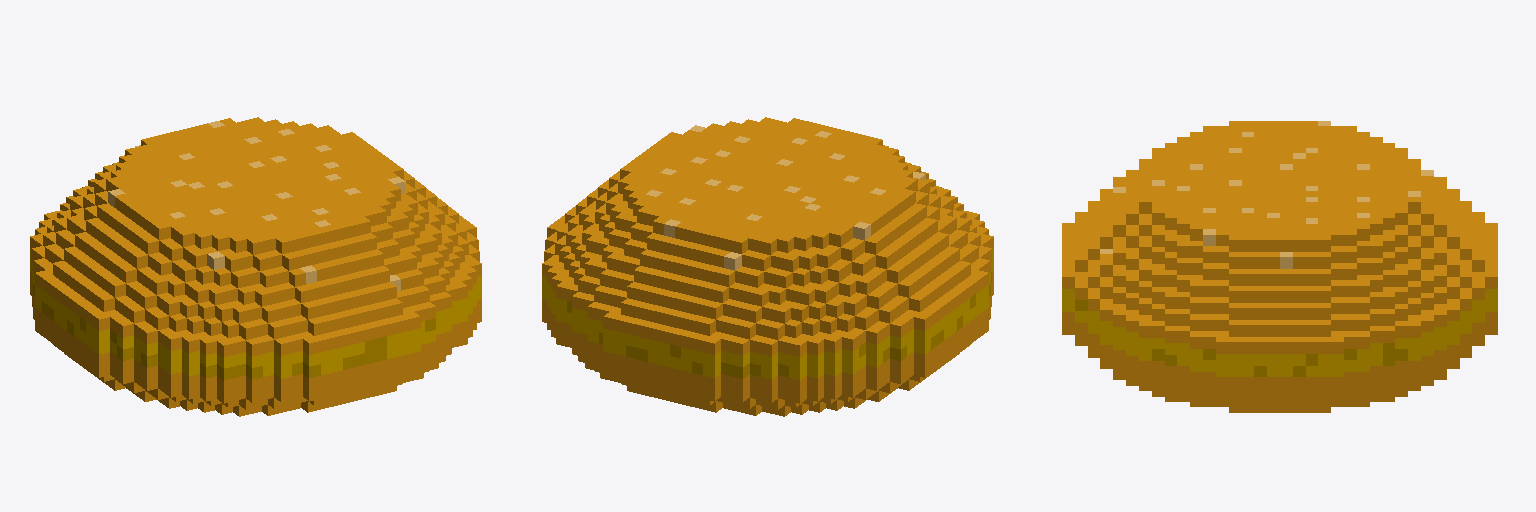
3 views of the same model, side by side, from view 1: azimuth 30°, elevation 25°; view 2: azimuth 150°, elevation 25°; view 3: azimuth 270°, elevation 25° (orthographic).
Visible parts, largest first — view 1: object 1; view 2: object 1; view 3: object 1.
Boxes of the visible parts, x1=… form: object 1: x1=30, y1=117, x2=481, y2=416; object 1: x1=542, y1=117, x2=993, y2=416; object 1: x1=1062, y1=121, x2=1497, y2=412.
Size of the model in its own units: 3.4 by 1.3 by 3.4.
Materials: 1 (1 with a texture image).